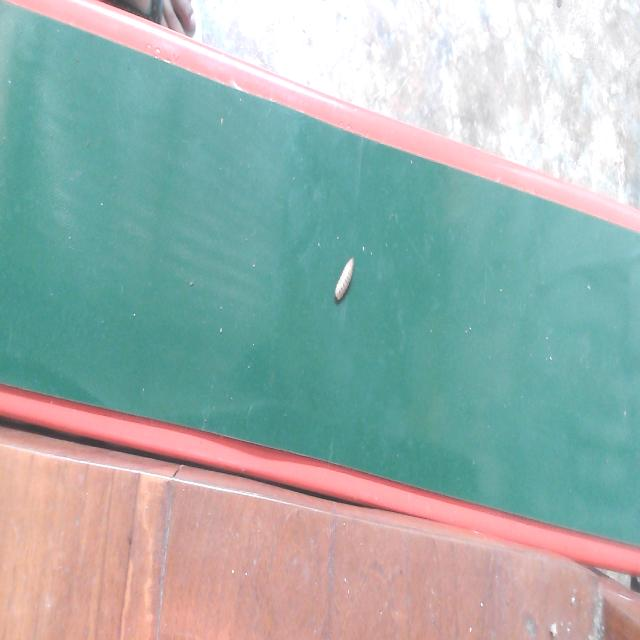Maggot: (332, 258, 358, 305)
